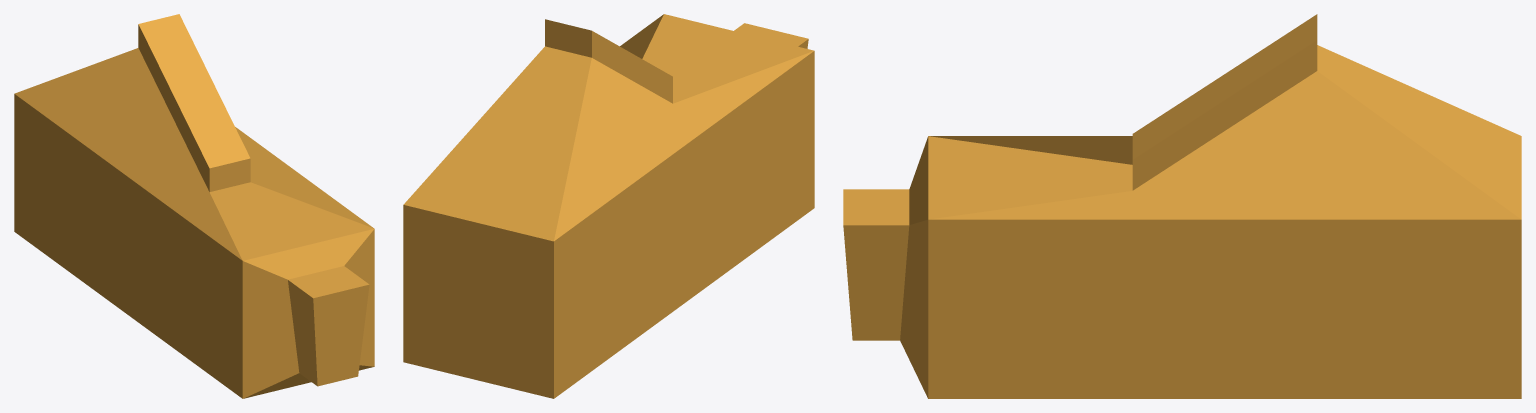
File: body.glb
3 views of the same model, side by side, from view 1: azimuth 30°, elevation 25°; view 2: azimuth 150°, elevation 25°; view 3: azimuth 270°, elevation 25° (orthographic). The views are drawn at different scales.
Parts seen in each view (by area): view 1: Cube; view 2: Cube; view 3: Cube.
Part boxes in pixels (box(x1,y1,x2,y2)): Cube: box(14, 14, 374, 398); Cube: box(403, 14, 814, 398); Cube: box(843, 14, 1521, 398).
Size of the model in its own units: 2 by 3.68 by 6.86.
